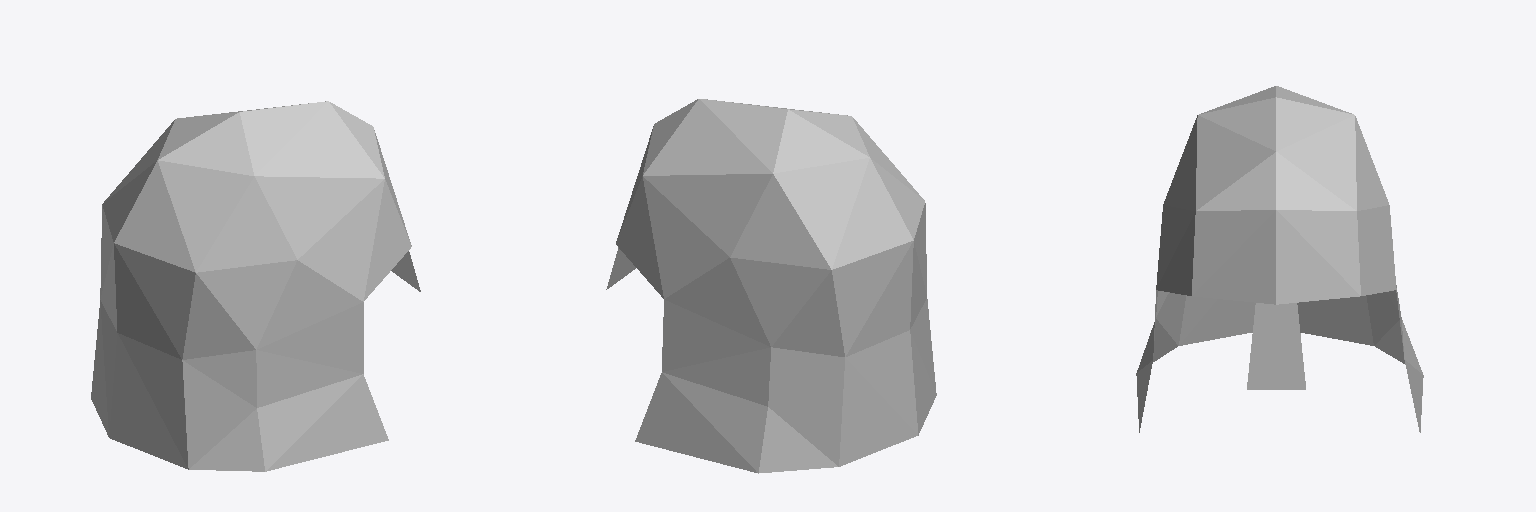
The model's file is armorleatherhelmbrown.obj.
The picture shows the model from 3 angles: view 1: azimuth 30°, elevation 25°; view 2: azimuth 150°, elevation 25°; view 3: azimuth 270°, elevation 25°; orthographic projection.
Visible parts, largest first — view 1: armorleatherhelmbrown.m2; view 2: armorleatherhelmbrown.m2; view 3: armorleatherhelmbrown.m2.
Boxes of the visible parts, x1=… form: armorleatherhelmbrown.m2: x1=91, y1=101, x2=420, y2=471; armorleatherhelmbrown.m2: x1=606, y1=99, x2=936, y2=473; armorleatherhelmbrown.m2: x1=1136, y1=86, x2=1423, y2=432.
Bounding box in the file's own units: 0.3709 × 0.3572 × 0.3103.